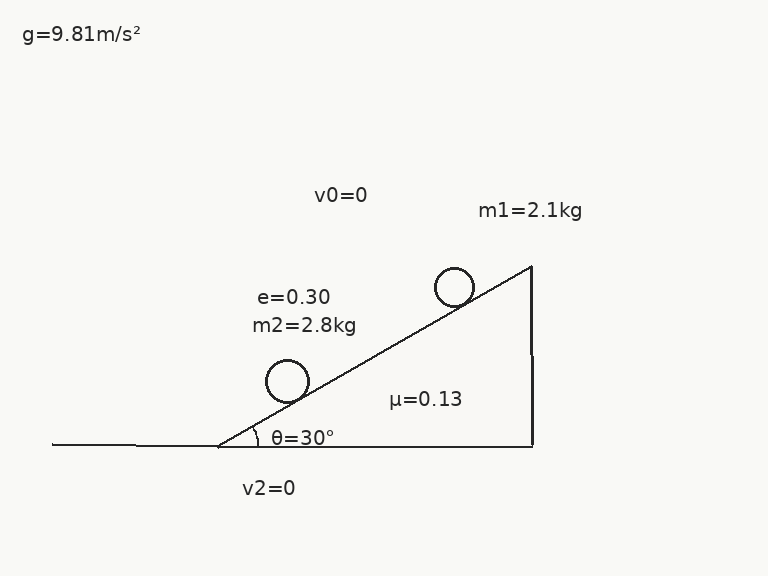ball: (263, 357, 311, 405), (432, 265, 476, 309)
ramp: (216, 264, 533, 448)
